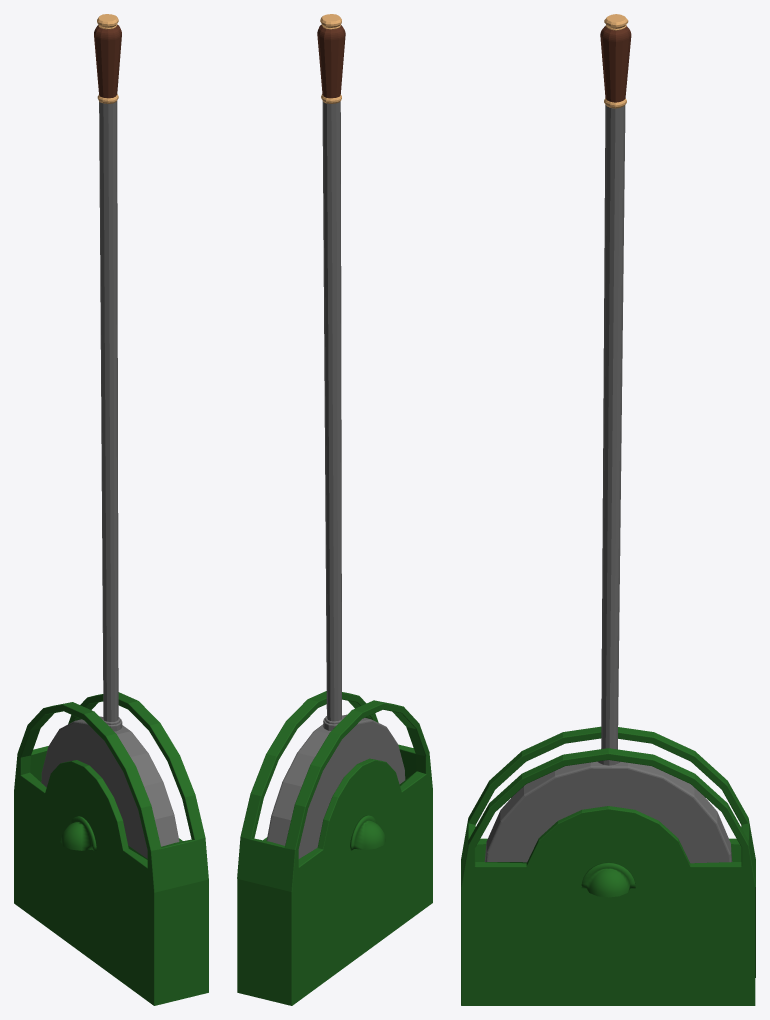
The model's file is pull_lever_foghorn.glb.
The picture shows the model from 3 angles, left to right: view 1: azimuth 30°, elevation 25°; view 2: azimuth 150°, elevation 25°; view 3: azimuth 270°, elevation 25°; orthographic projection. The views are drawn at different scales.
Visible parts, largest first — view 1: Circle, Circle.001, Circle.002; view 2: Circle, Circle.001, Circle.002; view 3: Circle, Circle.001, Circle.002.
Boxes of the visible parts, left/top/right/bottom form: Circle: left=14, top=692, right=208, bottom=1005; Circle.001: left=41, top=14, right=179, bottom=858; Circle.002: left=60, top=816, right=96, bottom=851; Circle: left=237, top=691, right=432, bottom=1005; Circle.001: left=266, top=14, right=405, bottom=858; Circle.002: left=349, top=815, right=385, bottom=850; Circle: left=461, top=726, right=755, bottom=1005; Circle.001: left=484, top=14, right=732, bottom=863; Circle.002: left=581, top=862, right=635, bottom=897.
Bounding box in the file's own units: 0.1578 × 1.46 × 0.4.
